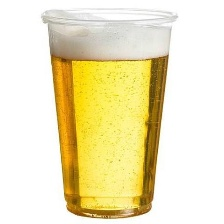glass: (33, 4, 180, 224)
